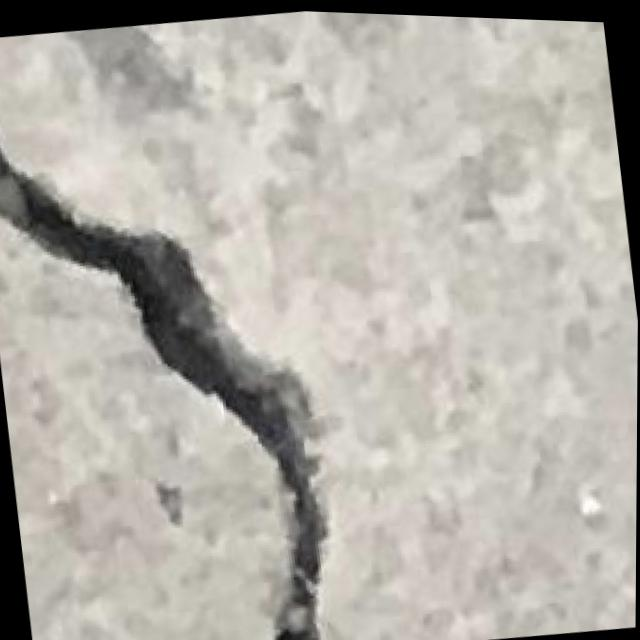Crack: (0, 11, 352, 640)
